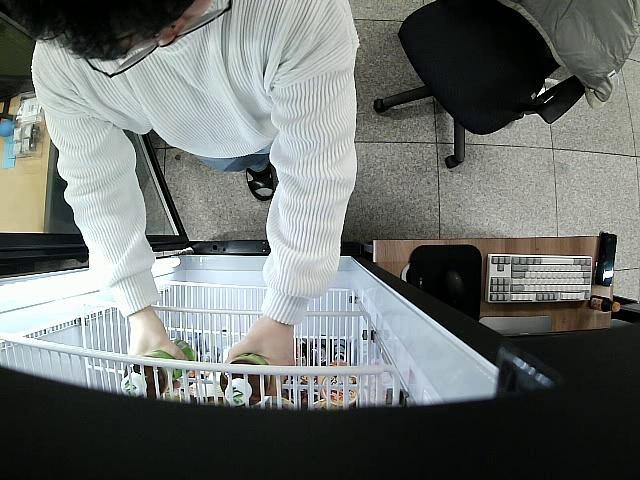19_17cha: (120, 341, 196, 398), (220, 354, 272, 406)
